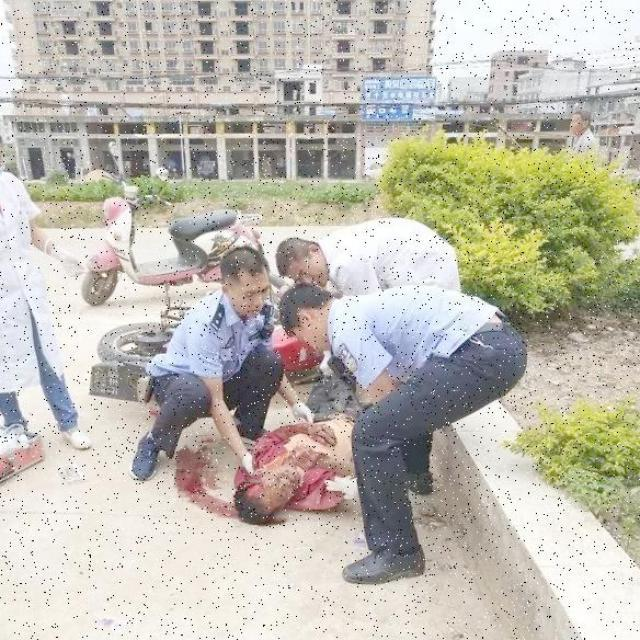fall: (228, 362, 367, 518)
